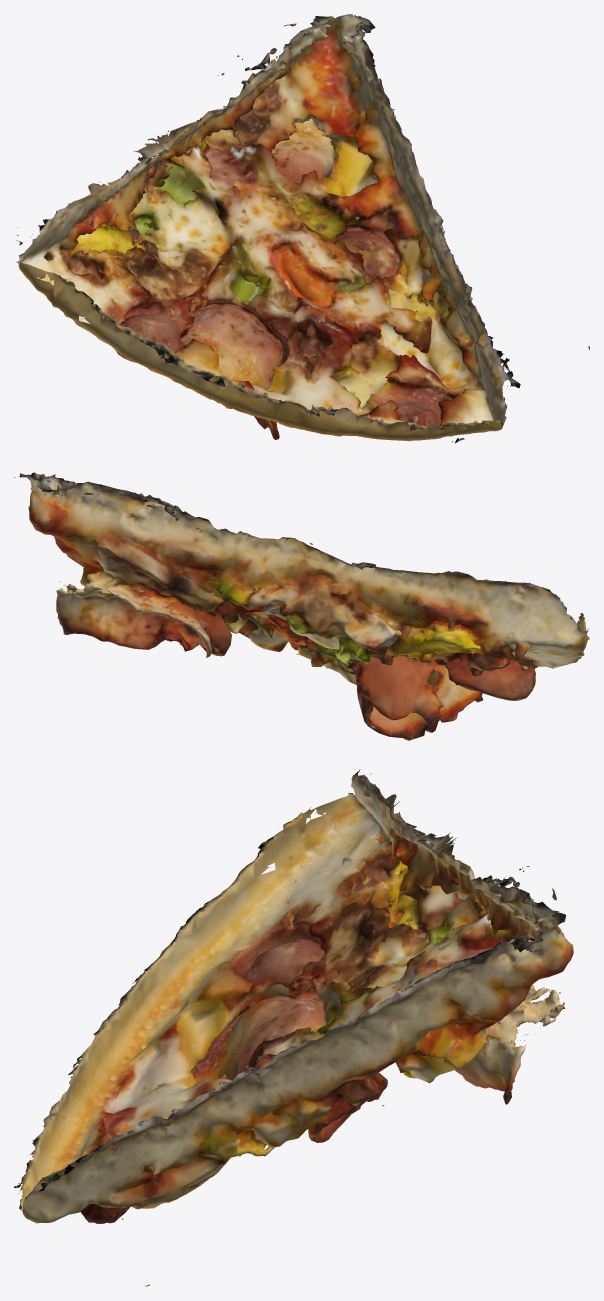
Rendered from pizza_26414.obj.
The picture shows the model from 3 angles, top to bottom: view 1: azimuth 30°, elevation 25°; view 2: azimuth 150°, elevation 25°; view 3: azimuth 270°, elevation 25°; orthographic projection. The views are drawn at different scales.
Bounding box in the file's own units: 1.61 × 0.8472 × 1.27.
1 material, 1 textured.
